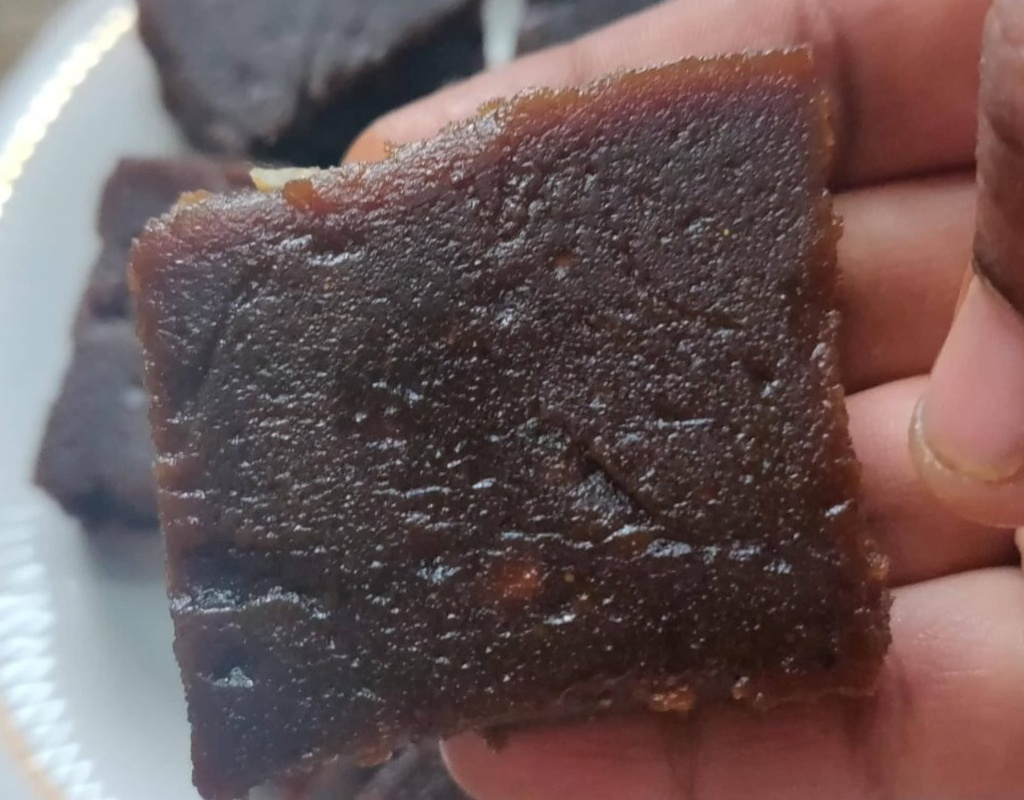dodol: (129, 23, 924, 800)
